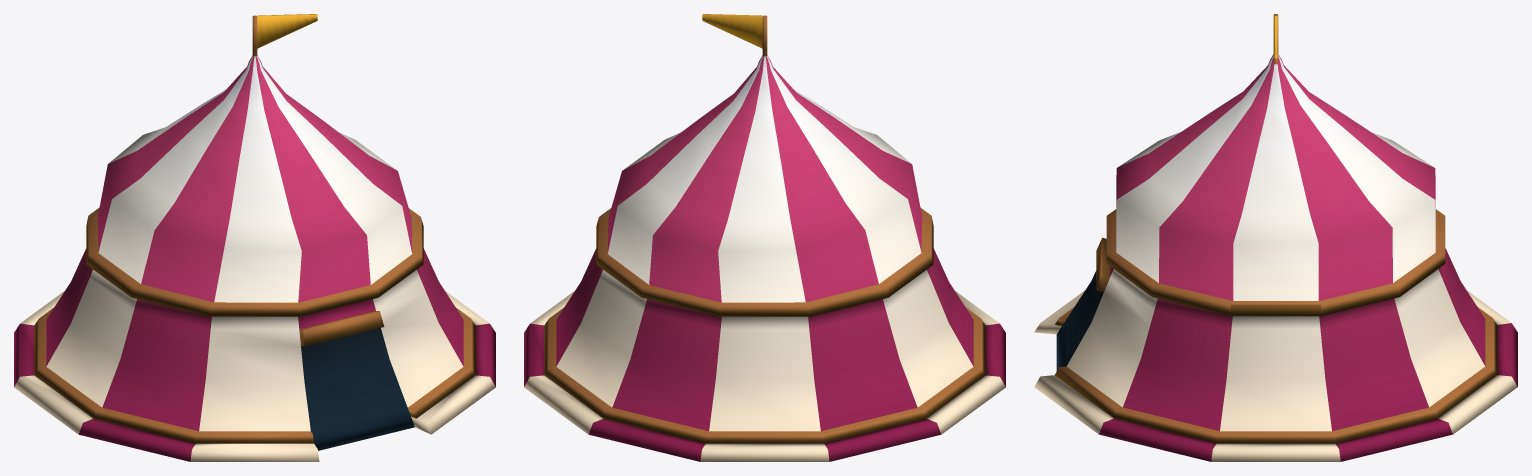
The model's file is Zelt.fbx.
3 views of the same model, side by side, from view 1: azimuth 30°, elevation 25°; view 2: azimuth 150°, elevation 25°; view 3: azimuth 270°, elevation 25° (orthographic).
Visible parts, largest first — view 1: Cylinder; view 2: Cylinder; view 3: Cylinder.
Boxes of the visible parts, bbox=[...] form: Cylinder: bbox=[14, 14, 495, 461]; Cylinder: bbox=[524, 14, 1005, 461]; Cylinder: bbox=[1034, 14, 1517, 461].
Size of the model in its own units: 810 by 637 by 810.
